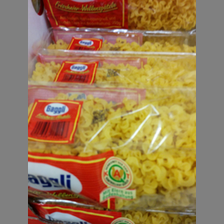pasta: (26, 88, 195, 212), (28, 54, 195, 88), (35, 30, 195, 52)
